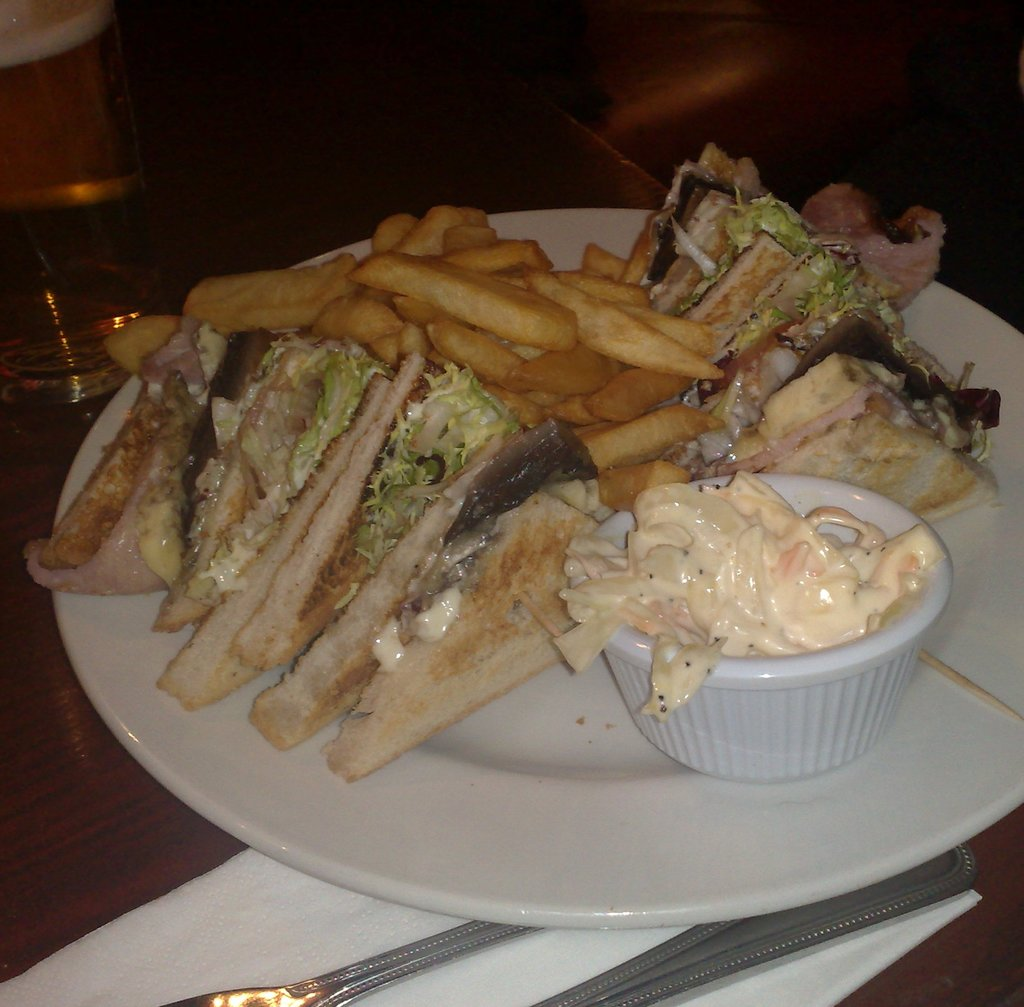French fries: (117, 192, 727, 514)
